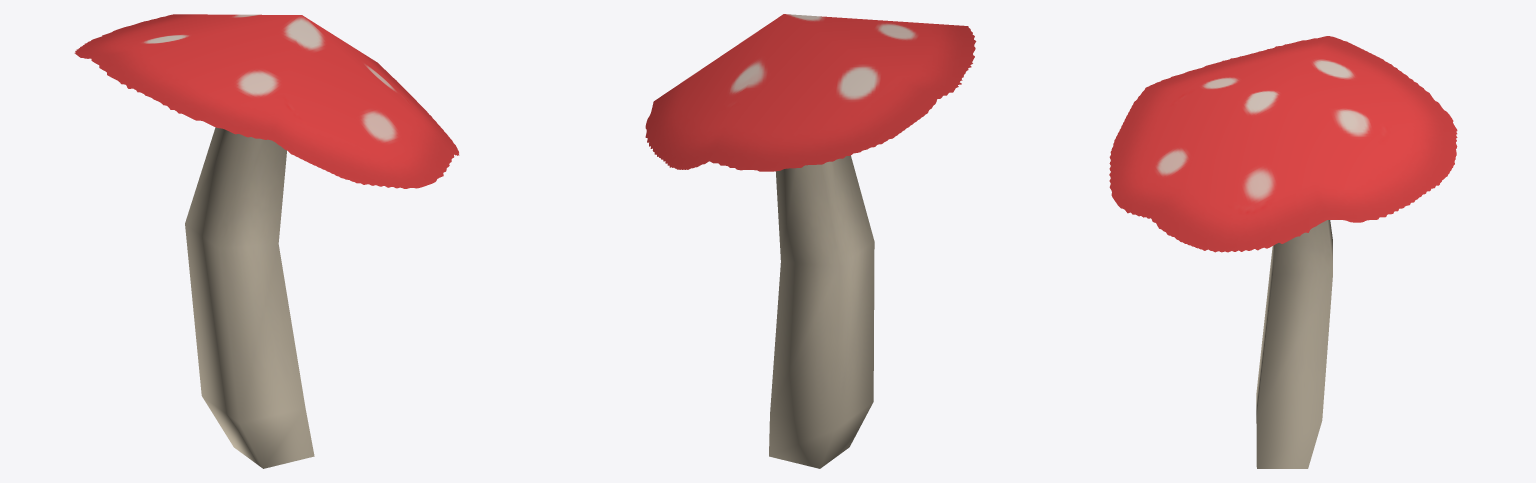
File: Mushroom02.fbx
The picture shows the model from 3 angles, left to right: view 1: azimuth 30°, elevation 25°; view 2: azimuth 150°, elevation 25°; view 3: azimuth 270°, elevation 25°; orthographic projection. The views are drawn at different scales.
Visible parts, largest first — view 1: polySurface2; view 2: polySurface2; view 3: polySurface2.
Boxes of the visible parts, x1,y1,x2,y2 form: polySurface2: (74, 14, 459, 468); polySurface2: (645, 14, 976, 468); polySurface2: (1109, 36, 1457, 468).
Size of the model in its own units: 0.3442 by 0.3259 by 0.3469.
